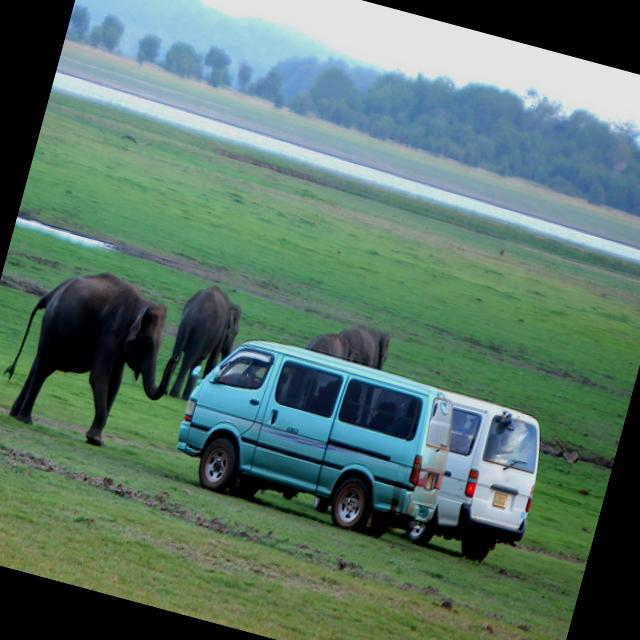Vehicle: (165, 322, 466, 550), (388, 384, 556, 572)
